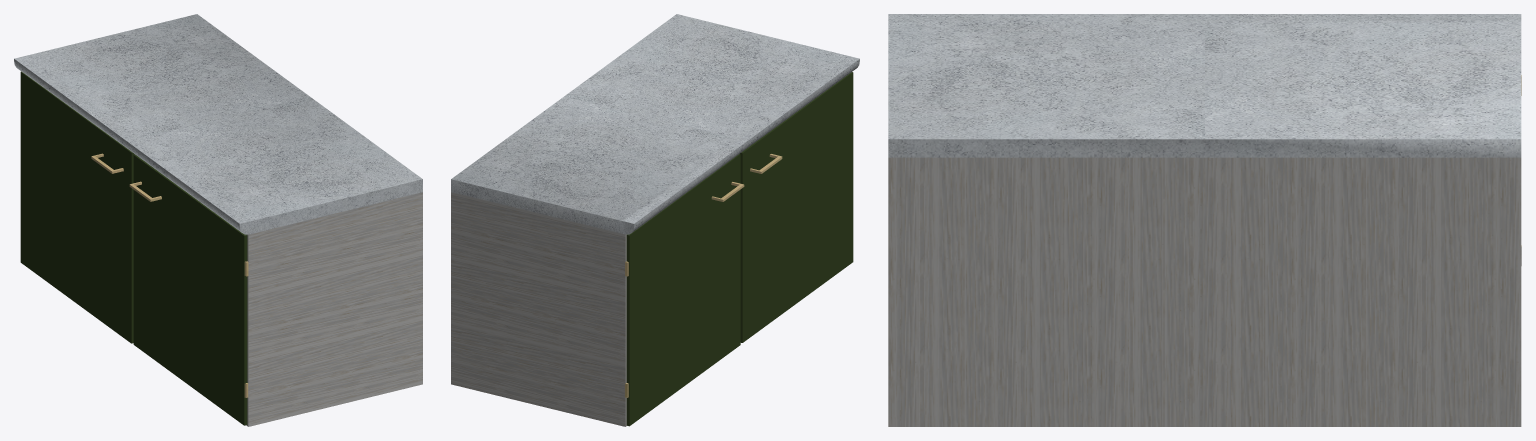
File: Counter.fbx
3 renders of one model, left to right at view 1: azimuth 30°, elevation 25°; view 2: azimuth 150°, elevation 25°; view 3: azimuth 270°, elevation 25°, orthographic. The views are drawn at different scales.
Parts seen in each view (by area): view 1: SinkCounter.001; view 2: SinkCounter.001; view 3: SinkCounter.001.
Boxes of the visible parts, box(x1,y1,x2,y2) form: SinkCounter.001: box(14, 14, 422, 426); SinkCounter.001: box(451, 14, 859, 426); SinkCounter.001: box(888, 14, 1521, 426).
Size of the model in its own units: 95.69 by 99.23 by 198.
